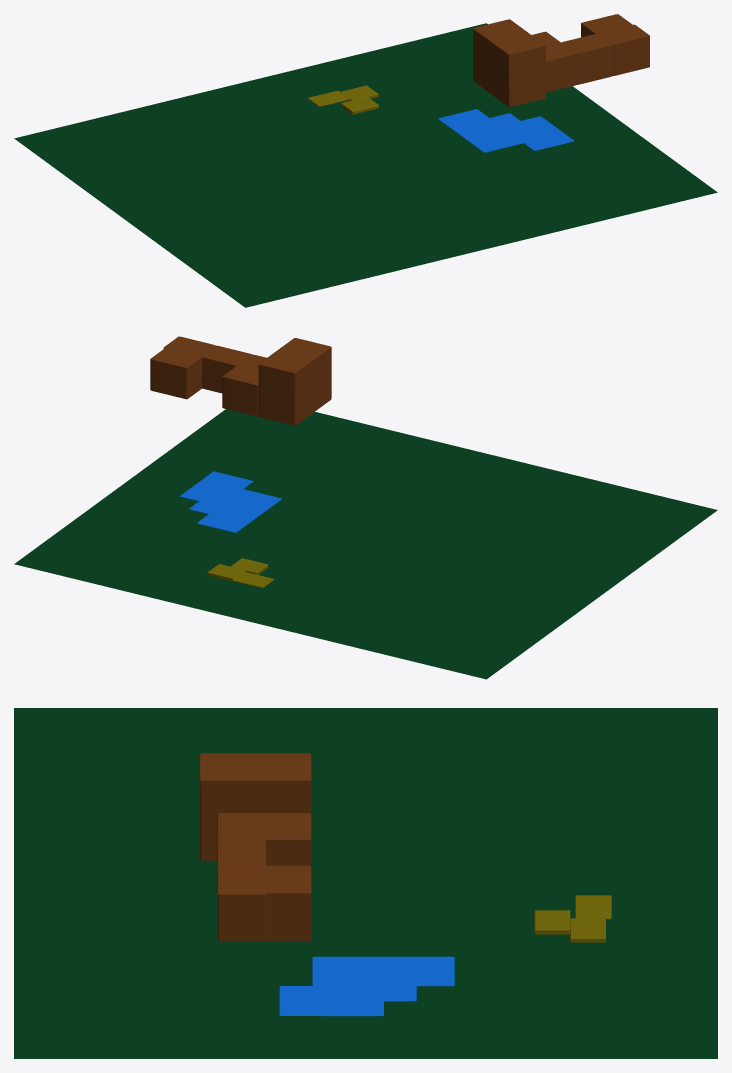
File: terrain.gltf
3 views of the same model, one above another, from view 1: azimuth 30°, elevation 25°; view 2: azimuth 150°, elevation 25°; view 3: azimuth 270°, elevation 25° (orthographic). The views are drawn at different scales.
Parts seen in each view (by area): view 1: Rectangle, Cube top center (×5), Cube right (×5); view 2: Rectangle, Cube top center (×5), Cube right (×4); view 3: Rectangle, Cube top center (×6), Cube right (×7), Cube top (×3).
Part boxes in pixels (left/top/right/bottom): Rectangle: left=14, top=23, right=717, bottom=307; Cube top center (×5): left=473, top=14, right=649, bottom=107; Cube right (×5): left=438, top=113, right=574, bottom=152; Rectangle: left=14, top=409, right=717, bottom=679; Cube top center (×5): left=150, top=336, right=331, bottom=425; Cube right (×4): left=180, top=471, right=268, bottom=532; Rectangle: left=14, top=708, right=717, bottom=1058; Cube top center (×6): left=200, top=753, right=311, bottom=941; Cube right (×7): left=279, top=956, right=454, bottom=1016; Cube top (×3): left=534, top=895, right=611, bottom=942.
Size of the model in its own units: 27.72 by 8.03 by 23.52.
